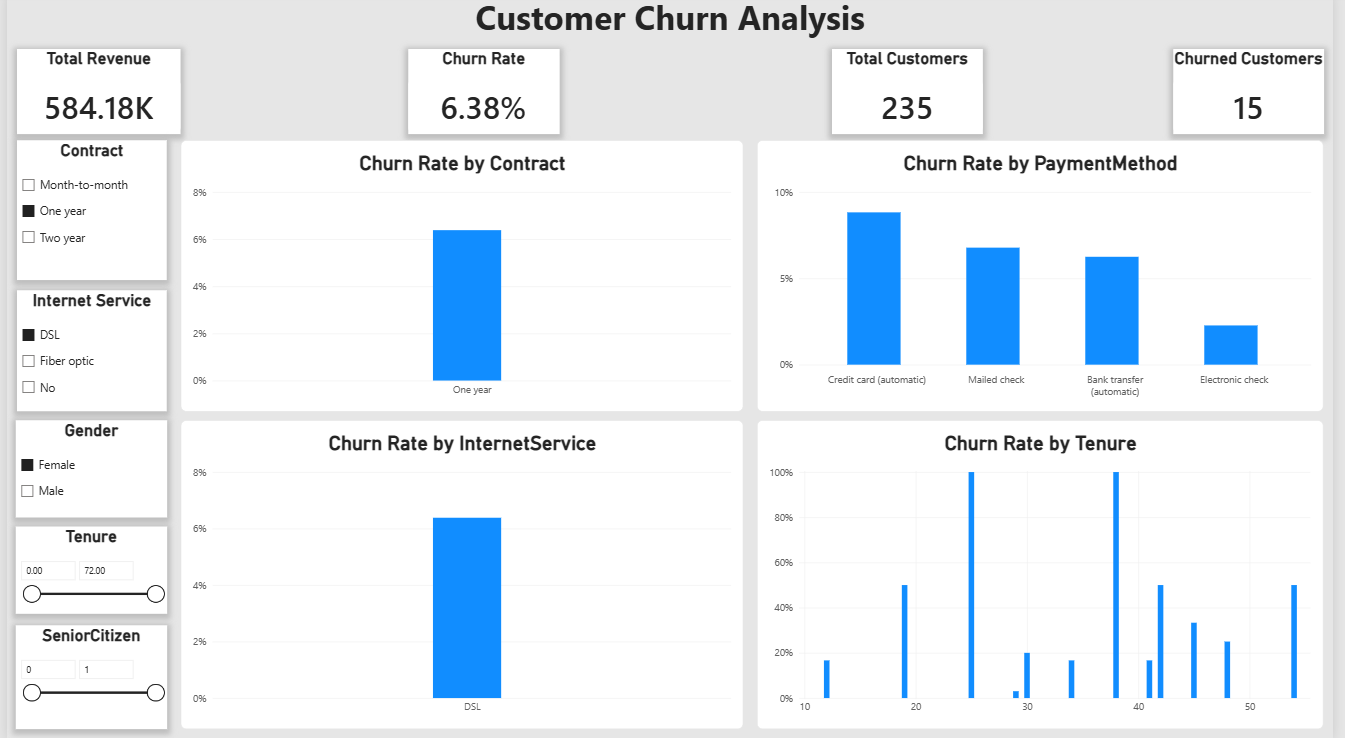

The page's visual inventory and layout, read from the dashboard file:
{"tool":"powerbi","page":{"name":"CUSTOMER CHURN ANALYSIS","canvas":[1920,1080],"ordinal":0},"visuals":[{"type":"cardVisual","title":"Total Customers","fields":{"Data":["telco_final.Total Customerss"]},"box":[1194.4,79.6,218,123],"z":0},{"type":"cardVisual","title":"Churned Customers","fields":{"Data":["telco_final.Churned Customers"]},"box":[1688.4,79.6,218,123],"z":1000},{"type":"cardVisual","title":"Churn Rate","fields":{"Data":["telco_final.Churn Rate"]},"box":[580.9,79.6,219,123.1],"z":2000},{"type":"cardVisual","title":"Total Revenue","fields":{"Data":["telco_final.Total Revenue"]},"box":[14.5,79.6,237.1,123.1],"z":3000},{"type":"clusteredColumnChart","fields":{"Category":["telco_final.Contract"],"Y":["telco_final.Churn Rate"]},"box":[251.5,211.7,814.3,392.7],"z":4000},{"type":"clusteredColumnChart","fields":{"Category":["telco_final.PaymentMethod"],"Y":["telco_final.Churn Rate"]},"box":[1085.8,211.7,819.8,392.7],"z":5000},{"type":"clusteredColumnChart","fields":{"Category":["telco_final.InternetService"],"Y":["telco_final.Churn Rate"]},"box":[251.5,617.1,814.3,447],"z":6000},{"type":"clusteredColumnChart","title":"Churn Rate by Tenure","fields":{"Category":["telco_final.tenure"],"Y":["telco_final.Churn Rate"]},"box":[1085.8,617.1,819.8,447],"z":7000},{"type":"textbox","box":[0,0,1920.1,67],"z":8000},{"type":"slicer","title":"Contract","fields":{"Values":["telco_final.Contract"]},"box":[14.5,211.7,217.2,202.7],"z":9000},{"type":"slicer","title":"Internet Service","fields":{"Values":["telco_final.InternetService"]},"box":[14.5,428.9,217.2,175.5],"z":10000},{"type":"slicer","title":"Gender","fields":{"Values":["telco_final.gender"]},"box":[12.7,617.1,219,141.2],"z":11000},{"type":"slicer","title":"SeniorCitizen","fields":{"Values":["telco_final.SeniorCitizen"]},"box":[12.7,913.9,219,150.2],"z":12000},{"type":"slicer","title":"Tenure","fields":{"Values":["telco_final.tenure"]},"box":[12.7,770.9,219,126.7],"z":13000}]}

Visuals, with their boxes in screenshot pixels (x1, y1, x2, y2), scaled from the page's 1920x1080 canvas onto the 1345x738 screenshot:
"Total Customers" cardVisual: 837/54/989/138
"Churned Customers" cardVisual: 1183/54/1335/138
"Churn Rate" cardVisual: 407/54/560/139
"Total Revenue" cardVisual: 10/54/176/139
clusteredColumnChart - telco_final.Contract x telco_final.Churn Rate: 176/145/747/413
clusteredColumnChart - telco_final.PaymentMethod x telco_final.Churn Rate: 761/145/1335/413
clusteredColumnChart - telco_final.InternetService x telco_final.Churn Rate: 176/422/747/727
"Churn Rate by Tenure" clusteredColumnChart: 761/422/1335/727
textbox: 0/0/1344/46
"Contract" slicer: 10/145/162/283
"Internet Service" slicer: 10/293/162/413
"Gender" slicer: 9/422/162/518
"SeniorCitizen" slicer: 9/624/162/727
"Tenure" slicer: 9/527/162/613
